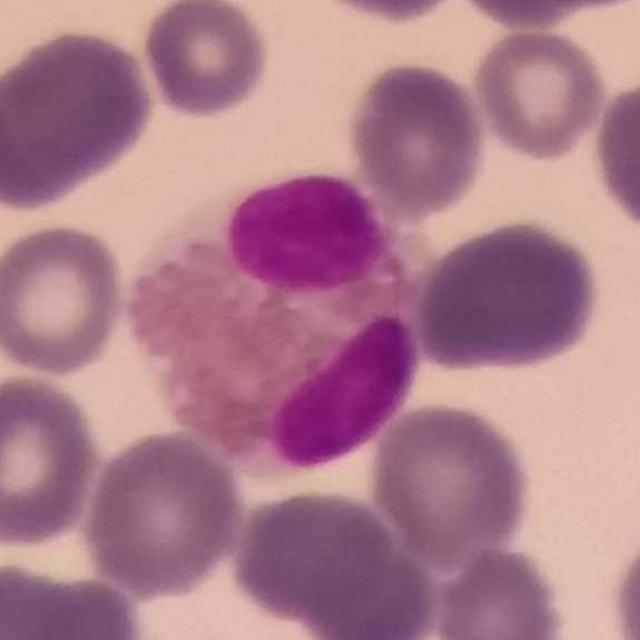Eosinophil: (123, 167, 440, 475)
RBC: (224, 483, 437, 639), (409, 215, 606, 375), (0, 22, 160, 215), (79, 425, 248, 599), (365, 397, 537, 566), (343, 57, 490, 218), (0, 218, 130, 379), (470, 23, 610, 164), (0, 370, 105, 552), (138, 0, 274, 121), (426, 542, 572, 640), (0, 557, 131, 640), (589, 74, 640, 237), (448, 0, 621, 32), (298, 0, 474, 27), (605, 517, 639, 640)
